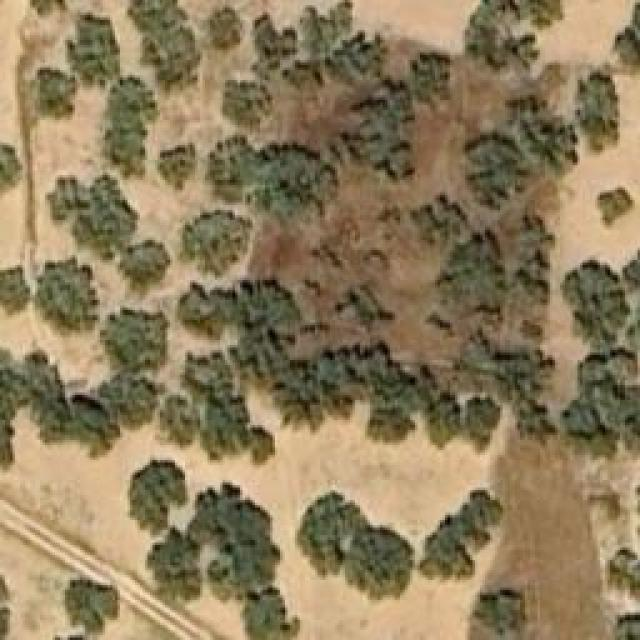Tree: (198, 485, 278, 583), (565, 358, 640, 458), (420, 490, 503, 580), (128, 0, 201, 95), (348, 85, 418, 175), (560, 257, 625, 345), (340, 523, 413, 598), (262, 145, 330, 225), (75, 175, 138, 255), (445, 235, 508, 315), (298, 485, 358, 568), (38, 258, 101, 331), (183, 210, 246, 275), (123, 462, 178, 530), (465, 138, 523, 201), (70, 13, 120, 86), (103, 308, 163, 368), (103, 365, 159, 428), (145, 535, 200, 598), (572, 83, 620, 153), (118, 237, 173, 295), (253, 12, 298, 80), (210, 138, 258, 201), (408, 193, 468, 243), (65, 580, 118, 633), (183, 285, 236, 338), (223, 80, 273, 133), (470, 590, 525, 635), (240, 592, 290, 640), (335, 33, 388, 78), (157, 395, 203, 446), (357, 408, 415, 448), (35, 68, 80, 118), (410, 58, 450, 108), (45, 175, 88, 220), (518, 0, 572, 35), (427, 393, 461, 448), (158, 145, 202, 187), (463, 398, 498, 448), (607, 547, 640, 600), (597, 187, 635, 225), (208, 8, 243, 48), (283, 60, 323, 90), (615, 28, 640, 73), (0, 272, 25, 310), (617, 617, 640, 640)
